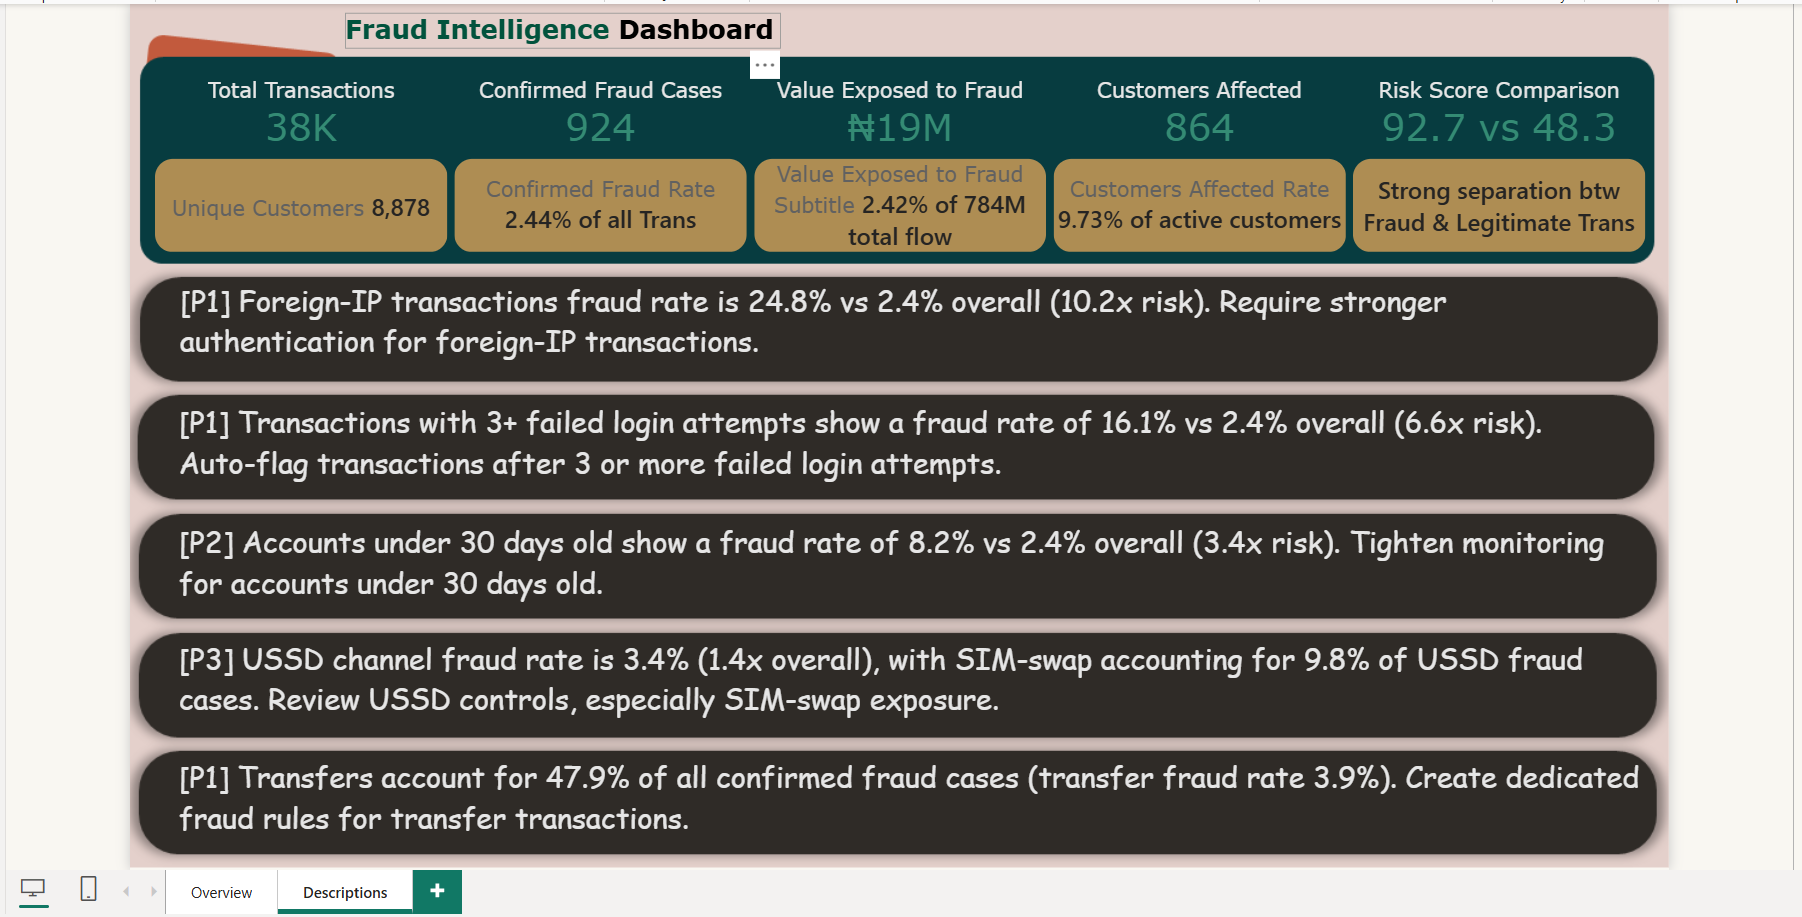

What the dashboard file says about the page in this screenshot:
{"tool":"powerbi","page":{"name":"Descriptions","canvas":[1280,720],"ordinal":1},"visuals":[{"type":"cardVisual","fields":{"Data":["_Measures.Total Transactions","_Measures.Confirmed Fraud Cases","_Measures.Value Exposed to Fraud","_Measures.Customers Affected","_Measures.Avg Risk Score"]},"box":[20.4,51.5,1239.3,155.8],"z":0},{"type":"textbox","box":[178.6,7.2,363.1,30],"z":1000},{"type":"textbox","box":[41.9,230.1,1217.7,75.5],"z":2000},{"type":"textbox","box":[41,330.8,1217.7,75.5],"z":3000},{"type":"textbox","box":[41,430.3,1217.7,75.5],"z":4000},{"type":"textbox","box":[41,527.3,1217.7,75.5],"z":5000},{"type":"textbox","box":[41,625.6,1217.7,75.5],"z":6000}]}

Visuals, with their boxes on the page's 1280x720 design canvas (x1, y1, x2, y2). These are canvas units, not pixel positions in the 1802x917 screenshot, which may show the page scaled, cropped or inside an application window:
cardVisual - _Measures.Total Transactions x _Measures.Confirmed Fraud Cases: detection(20, 52, 1260, 207)
textbox: detection(179, 7, 542, 37)
textbox: detection(42, 230, 1260, 306)
textbox: detection(41, 331, 1259, 406)
textbox: detection(41, 430, 1259, 506)
textbox: detection(41, 527, 1259, 603)
textbox: detection(41, 626, 1259, 701)
